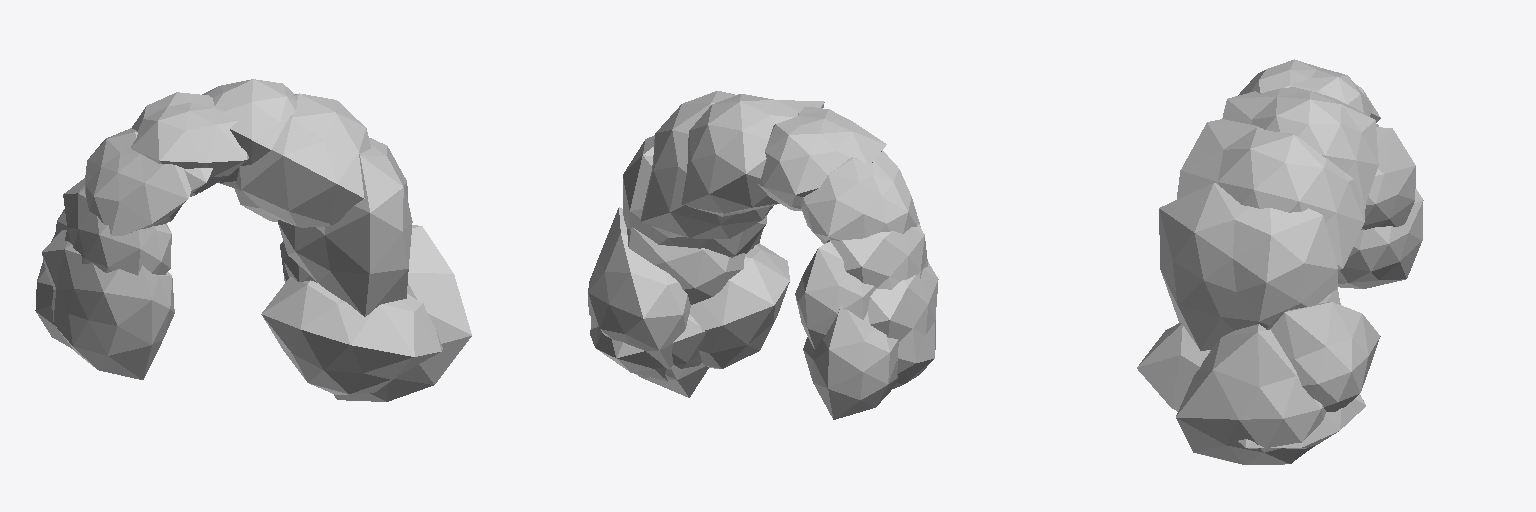
Rendered from arch2.obj.
3 views of the same model, side by side, from view 1: azimuth 30°, elevation 25°; view 2: azimuth 150°, elevation 25°; view 3: azimuth 270°, elevation 25° (orthographic).
Parts seen in each view (by area): view 1: Icosphere.001_Icosphere.002, Icosphere.001_Icosphere.001, Icosphere.001_Icosphere.003, Icosphere.001_Icosphere.007, Icosphere.001_Icosphere.005, Icosphere_Icosphere.007, Icosphere.001_Icosphere.004, Icosphere.001_Icosphere.006, Icosphere_Icosphere.003; view 2: Icosphere_Icosphere.003, Icosphere_Icosphere.000, Icosphere_Icosphere.007, Icosphere.001_Icosphere.004, Icosphere.001_Icosphere.005, Icosphere.001_Icosphere.002, Icosphere.001_Icosphere.003, Icosphere.001_Icosphere.007, Icosphere_Icosphere.006, Icosphere.001_Icosphere.006, Icosphere_Icosphere.002, Icosphere.001_Icosphere.001 (+1 smaller); view 3: Icosphere.001_Icosphere.001, Icosphere_Icosphere.007, Icosphere.001_Icosphere.003, Icosphere_Icosphere.000, Icosphere_Icosphere.003, Icosphere_Icosphere.006, Icosphere.001_Icosphere.002, Icosphere.001_Icosphere.004, Icosphere_Icosphere.001.
Part boxes in pixels (x1,y1,x2,y2): Icosphere.001_Icosphere.002: (261,277,442,394); Icosphere.001_Icosphere.001: (278,138,412,316); Icosphere.001_Icosphere.003: (234,93,371,227); Icosphere.001_Icosphere.007: (42,230,174,379); Icosphere.001_Icosphere.005: (85,128,191,236); Icosphere_Icosphere.007: (35,225,471,401); Icosphere.001_Icosphere.004: (131,92,248,192); Icosphere.001_Icosphere.006: (63,178,171,275); Icosphere_Icosphere.003: (202,79,296,190); Icosphere_Icosphere.003: (681,94,824,216); Icosphere_Icosphere.000: (588,207,690,369); Icosphere_Icosphere.007: (591,305,898,419); Icosphere.001_Icosphere.004: (758,106,886,210); Icosphere.001_Icosphere.005: (801,150,920,243); Icosphere.001_Icosphere.002: (690,243,789,368); Icosphere.001_Icosphere.003: (641,91,773,238); Icosphere.001_Icosphere.007: (867,262,938,388); Icosphere_Icosphere.006: (795,241,875,349); Icosphere.001_Icosphere.006: (827,224,927,289); Icosphere_Icosphere.002: (627,227,744,304); Icosphere.001_Icosphere.001: (623,135,767,257); Icosphere.001_Icosphere.001: (1159,183,1337,350); Icosphere_Icosphere.007: (1176,189,1423,464); Icosphere.001_Icosphere.003: (1177,119,1365,269); Icosphere_Icosphere.000: (1266,302,1380,411); Icosphere_Icosphere.003: (1222,87,1378,204); Icosphere_Icosphere.006: (1361,127,1415,229); Icosphere.001_Icosphere.002: (1137,323,1210,411); Icosphere.001_Icosphere.004: (1238,59,1372,115); Icosphere_Icosphere.001: (1238,394,1365,448).
Bounding box in the file's own units: 8.1 × 7.18 × 5.74.